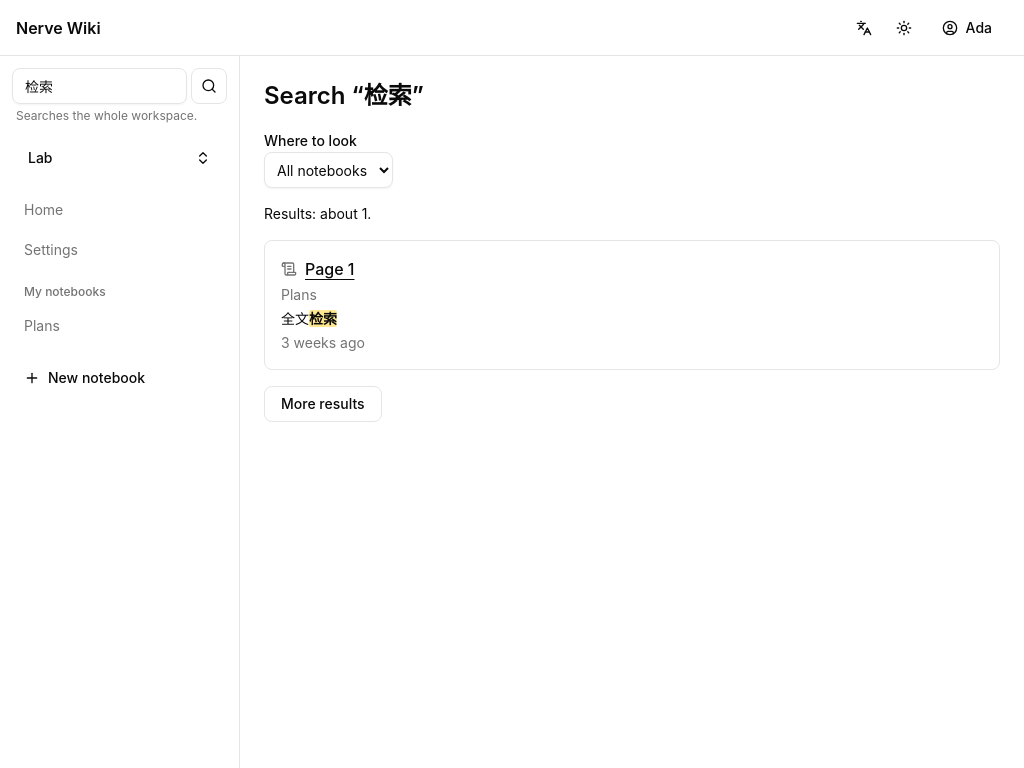
Test: a last stretch that finds nothing and ends the search says nothing of its own: the line, changing, says what was found; the focus goes to the last hit (P5B revi
expect the list named "Search results" is shown: met, box [264, 240, 1000, 370]
expect the text "Results: about 1." is shown: met, box [264, 205, 371, 222]
Click the button "More results" at point(323, 404), box [264, 386, 382, 422]
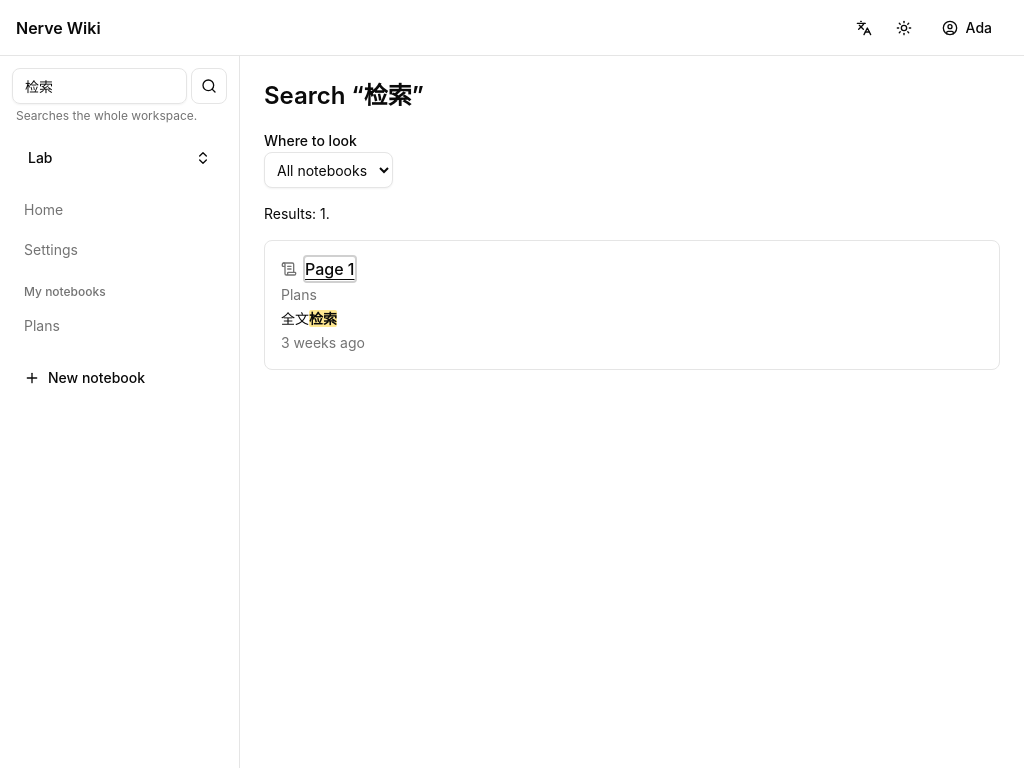
expect the text "Results: 1." is shown: met, box [264, 205, 330, 222]
expect the button "More results" is gone: met
